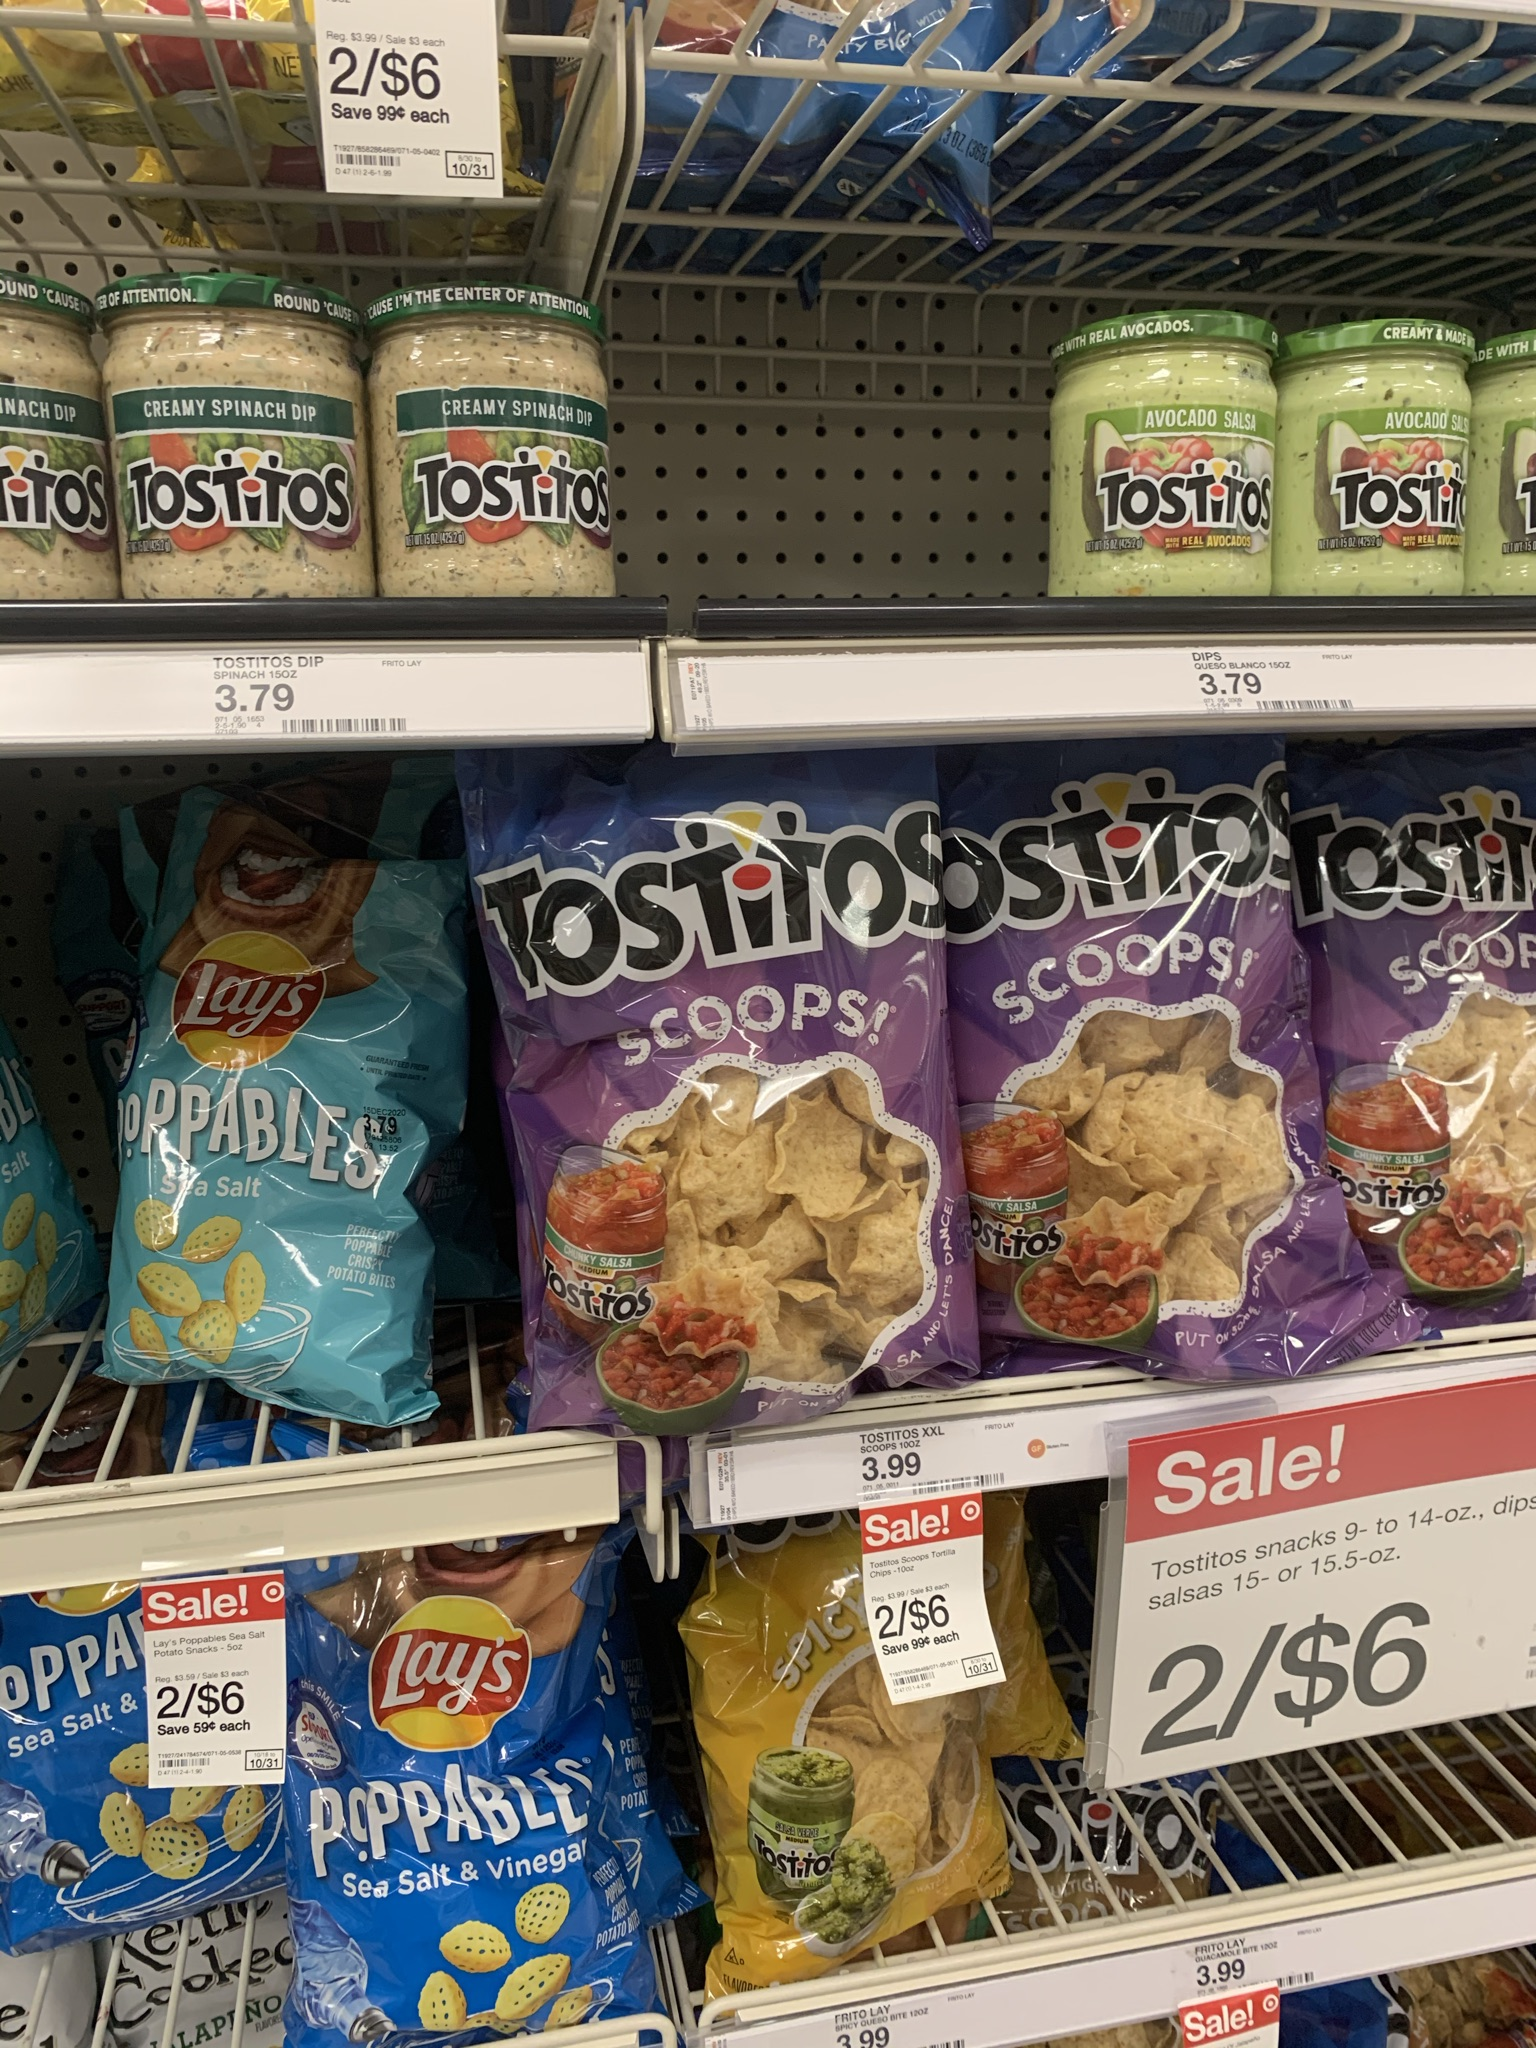Chips: (290, 1548, 637, 2030)
